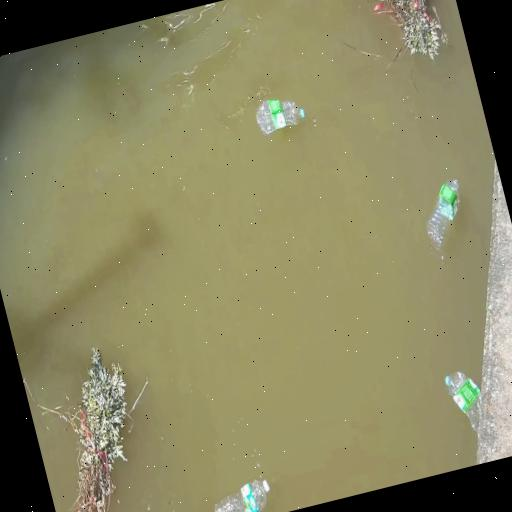plastic: (428, 180, 459, 248), (445, 372, 480, 431), (215, 480, 269, 511), (256, 100, 305, 134), (263, 480, 270, 492), (300, 108, 305, 118)
twig: (23, 347, 129, 512), (374, 0, 447, 59)
